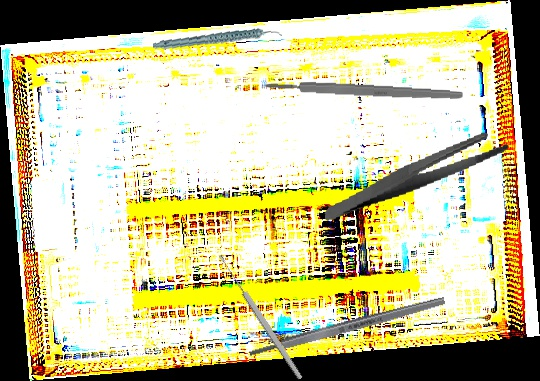Dressing Forceps: (316, 129, 515, 222)
Handpiece: (152, 15, 283, 66)
Scalpel Handle: (247, 295, 447, 359), (264, 78, 464, 102)
Surgical Spoon: (217, 253, 304, 381)
